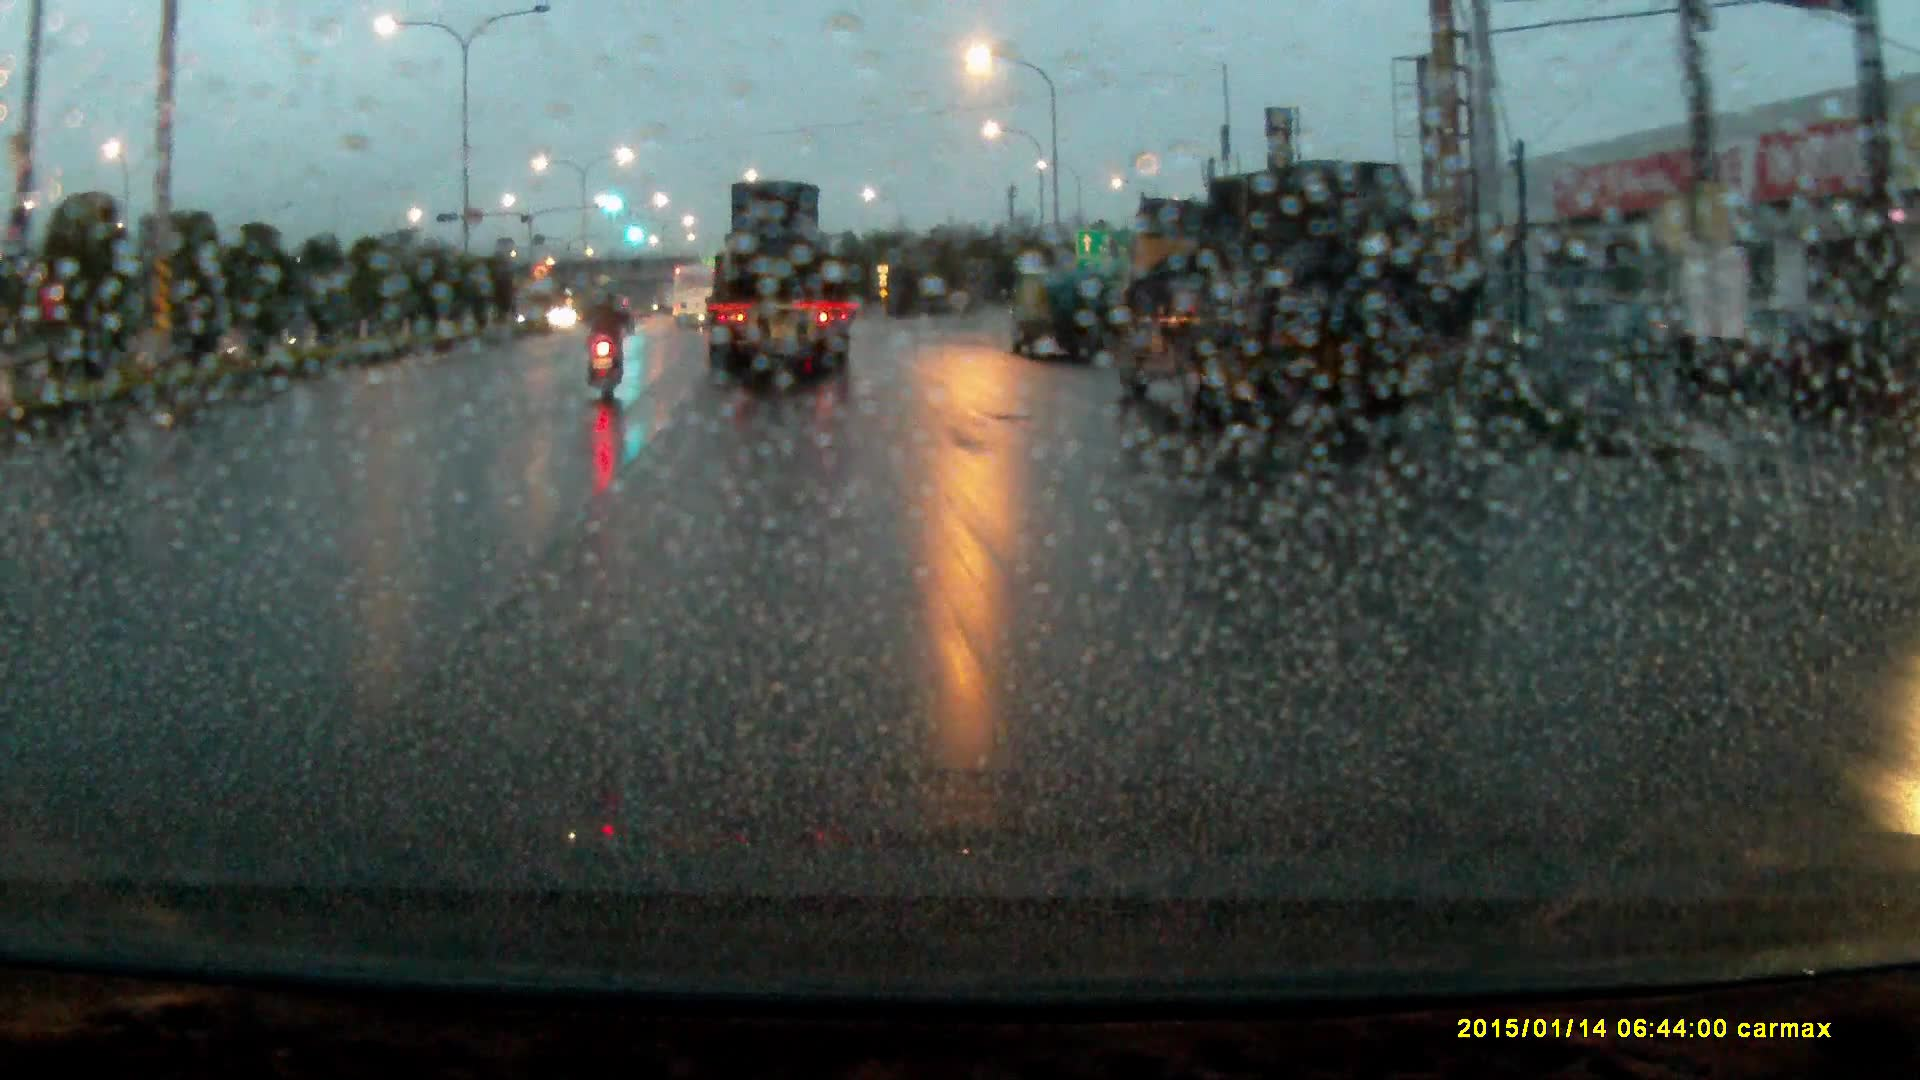rider: (579, 270, 633, 400)
vehicle: (1116, 159, 1430, 448), (702, 175, 857, 379), (1009, 262, 1113, 362), (673, 263, 715, 327), (591, 283, 636, 325)
